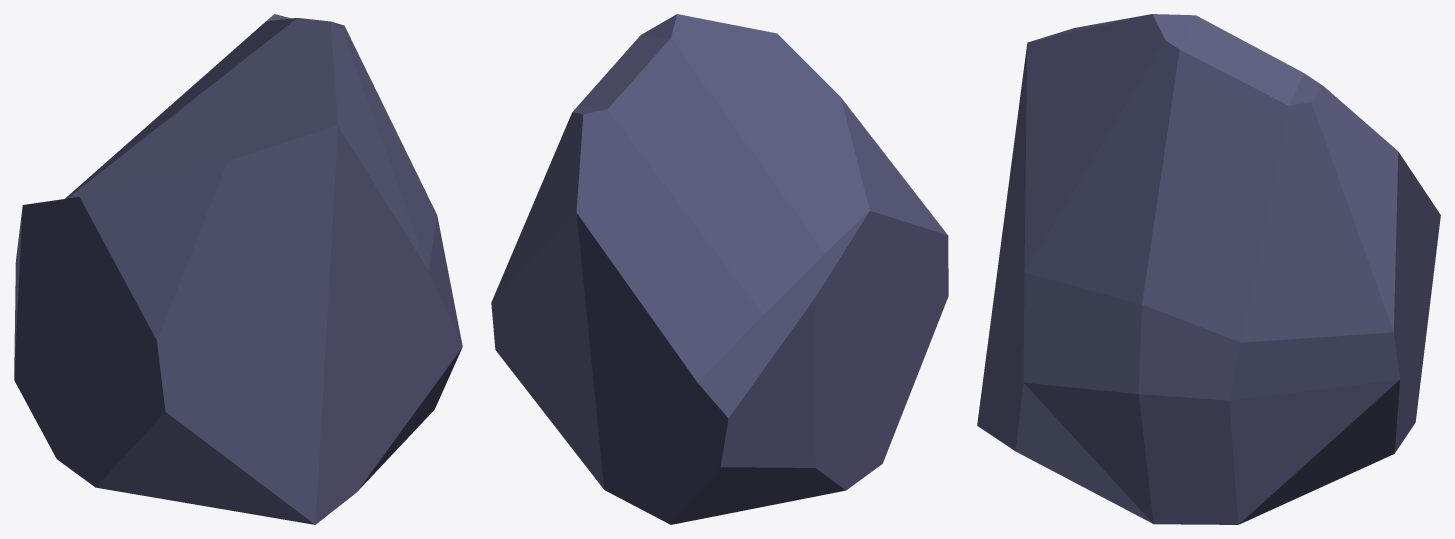
Rendered from Rock1.fbx.
3 renders of one model, left to right at view 1: azimuth 30°, elevation 25°; view 2: azimuth 150°, elevation 25°; view 3: azimuth 270°, elevation 25°, orthographic. The views are drawn at different scales.
Parts seen in each view (by area): view 1: Cube; view 2: Cube; view 3: Cube.
Part boxes in pixels (bbox=[...]): Cube: bbox=[14, 14, 462, 524]; Cube: bbox=[491, 14, 948, 524]; Cube: bbox=[977, 14, 1440, 524].
Bounding box in the file's own units: 226 × 264 × 236.
